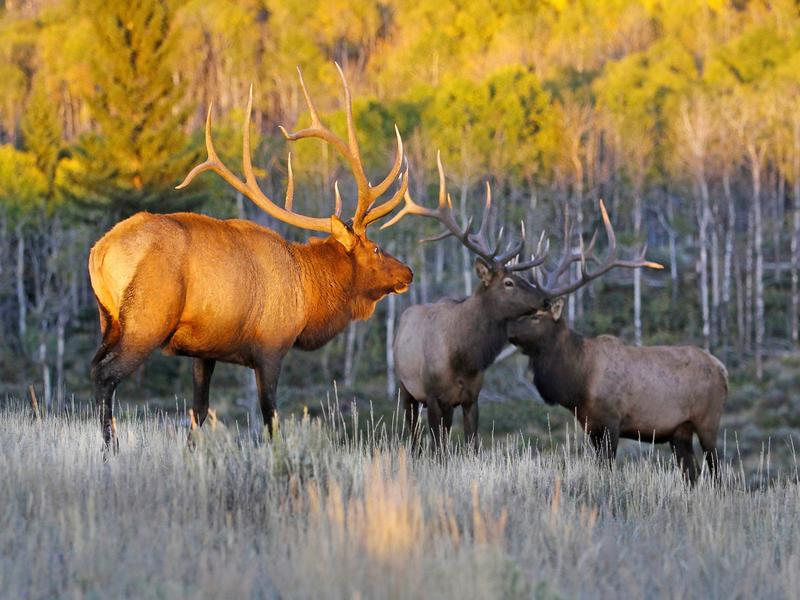elk: (72, 134, 415, 457), (504, 246, 735, 504), (390, 200, 623, 450)
